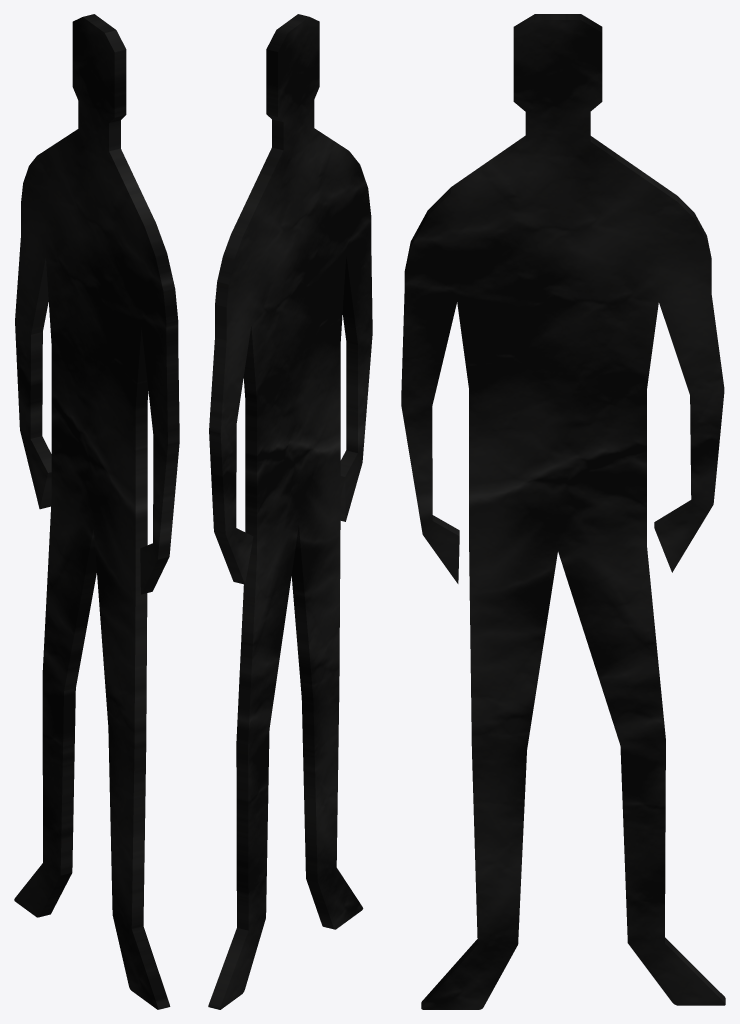
Rendered from BONHOMME2.fbx.
3 renders of one model, left to right at view 1: azimuth 30°, elevation 25°; view 2: azimuth 150°, elevation 25°; view 3: azimuth 270°, elevation 25°, orthographic. The views are drawn at different scales.
Parts seen in each view (by area): view 1: PErs2; view 2: PErs2; view 3: PErs2.
Part boxes in pixels (x1=…): PErs2: x1=14, y1=14, x2=179, y2=1009; PErs2: x1=208, y1=14, x2=372, y2=1009; PErs2: x1=401, y1=14, x2=725, y2=1009.
Size of the model in its own units: 5 by 381 by 113.
Materials: 1 (1 with a texture image).
